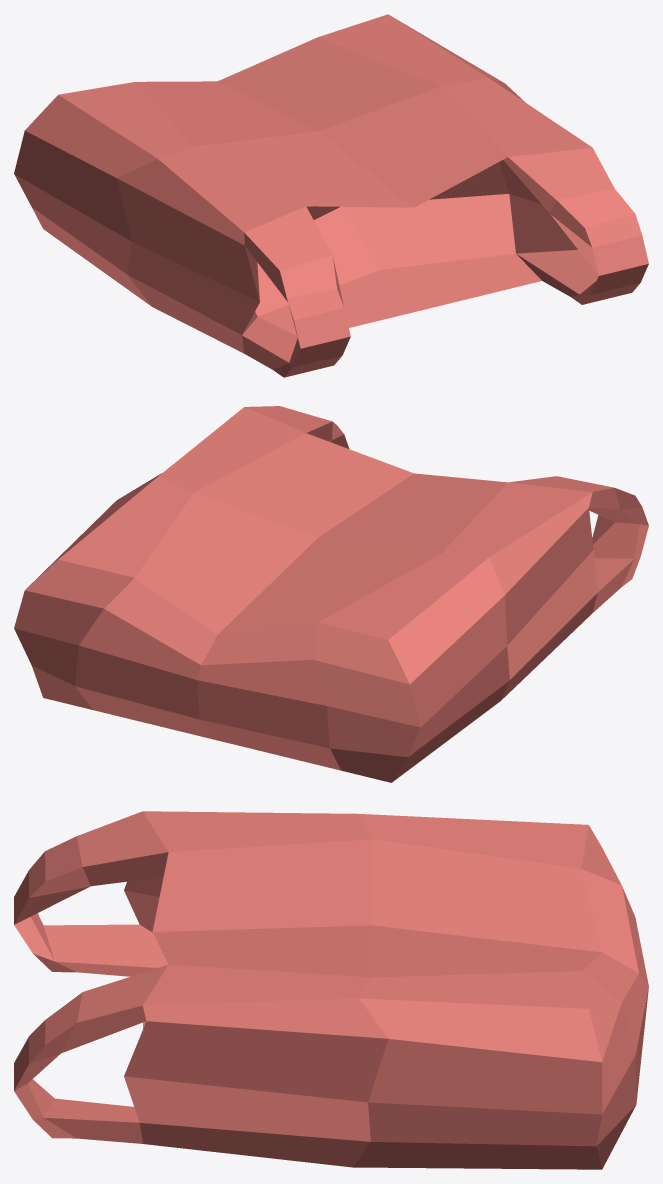
The model's file is Plastik.fbx.
3 renders of one model, top to bottom at view 1: azimuth 30°, elevation 25°; view 2: azimuth 150°, elevation 25°; view 3: azimuth 270°, elevation 25°, orthographic. The views are drawn at different scales.
Parts seen in each view (by area): view 1: Plastik; view 2: Plastik; view 3: Plastik.
Boxes of the visible parts, x1=… form: Plastik: x1=14, y1=14, x2=648, y2=377; Plastik: x1=14, y1=406, x2=648, y2=782; Plastik: x1=14, y1=811, x2=648, y2=1169.
Bounding box in the file's own units: 234 × 79.96 × 276.
